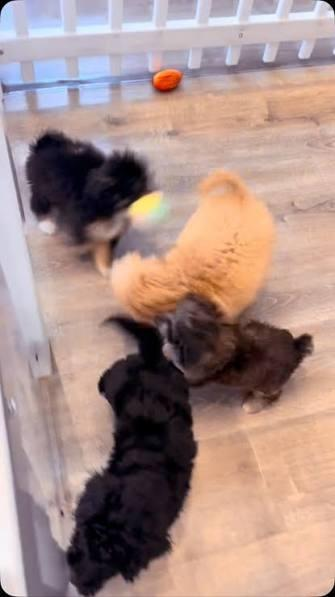puppy-dog: (63, 312, 198, 597), (105, 163, 277, 336), (154, 292, 316, 416), (22, 128, 148, 278)
